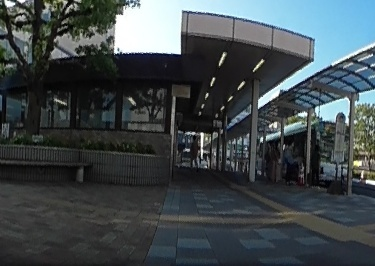person: (284, 138, 298, 182), (269, 138, 280, 179), (188, 131, 199, 168)
